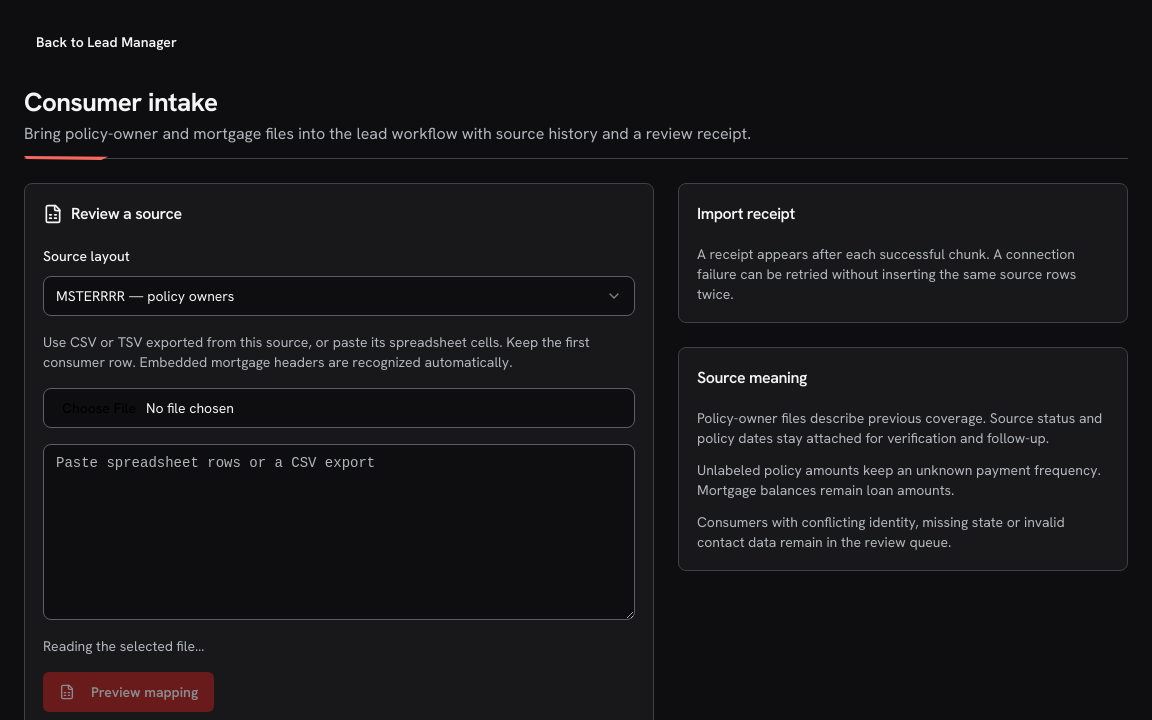
Test case: consumer intake state and receipts › does not let a late file read replace newer pasted rows
Earlier steps of the test are not shown.
Expected: the text "Reading the selected file…" is shown, [43,637,204,655]
Type "Newer pasted source" into the text box named "Consumer spreadsheet rows" at (339, 532), box [43,444,635,620]
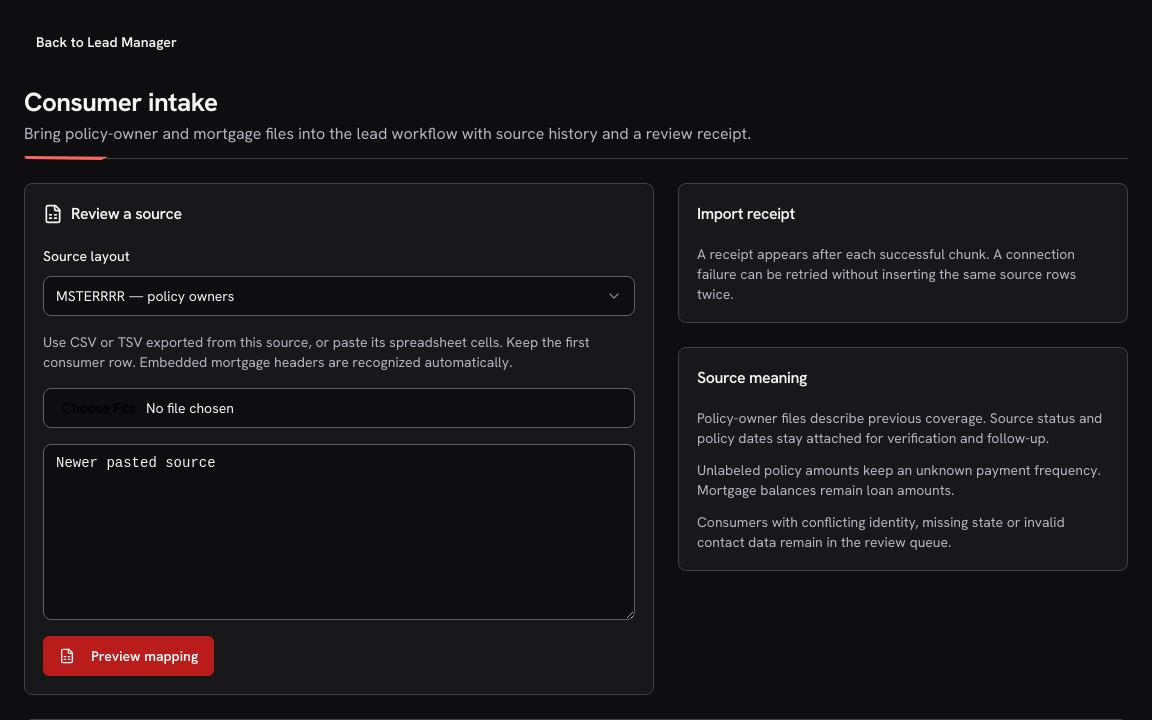
Result: the text "Reading the selected file…" is gone
